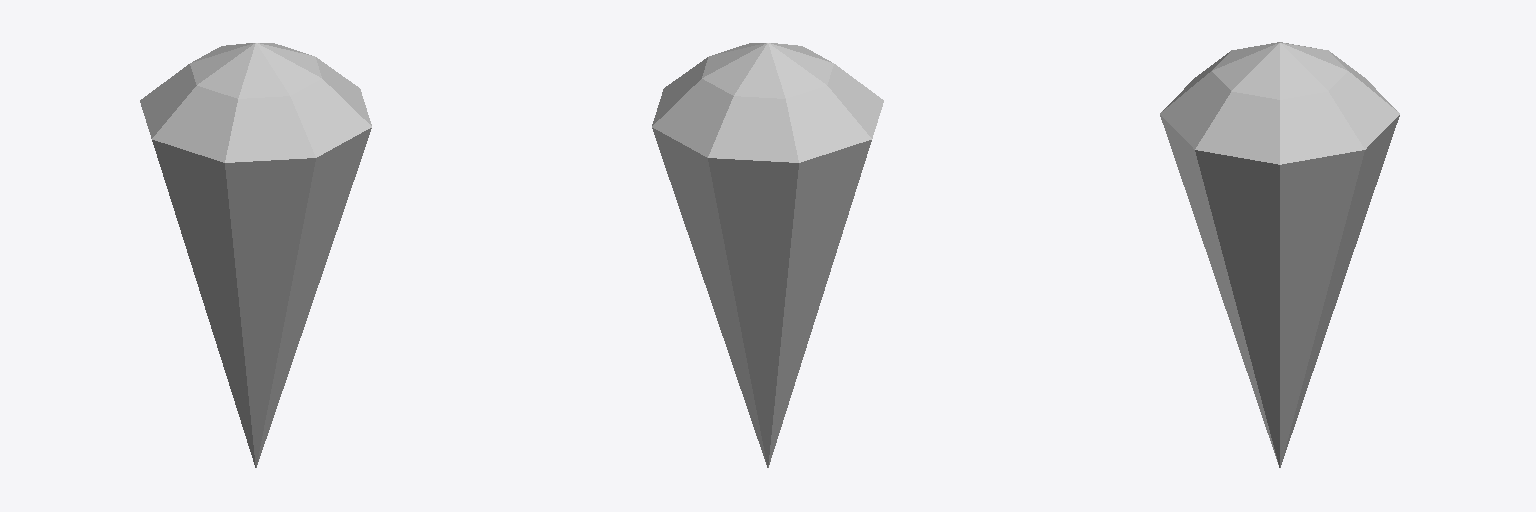
Rendered from drone.obj.
The picture shows the model from 3 angles: view 1: azimuth 30°, elevation 25°; view 2: azimuth 150°, elevation 25°; view 3: azimuth 270°, elevation 25°; orthographic projection.
Visible parts, largest first — view 1: Sphere; view 2: Sphere; view 3: Sphere.
Boxes of the visible parts, <box> form: Sphere: <box>140,43,371,467</box>; Sphere: <box>652,43,883,467</box>; Sphere: <box>1160,42,1399,467</box>.
Bounding box in the file's own units: 2 × 3.91 × 2.